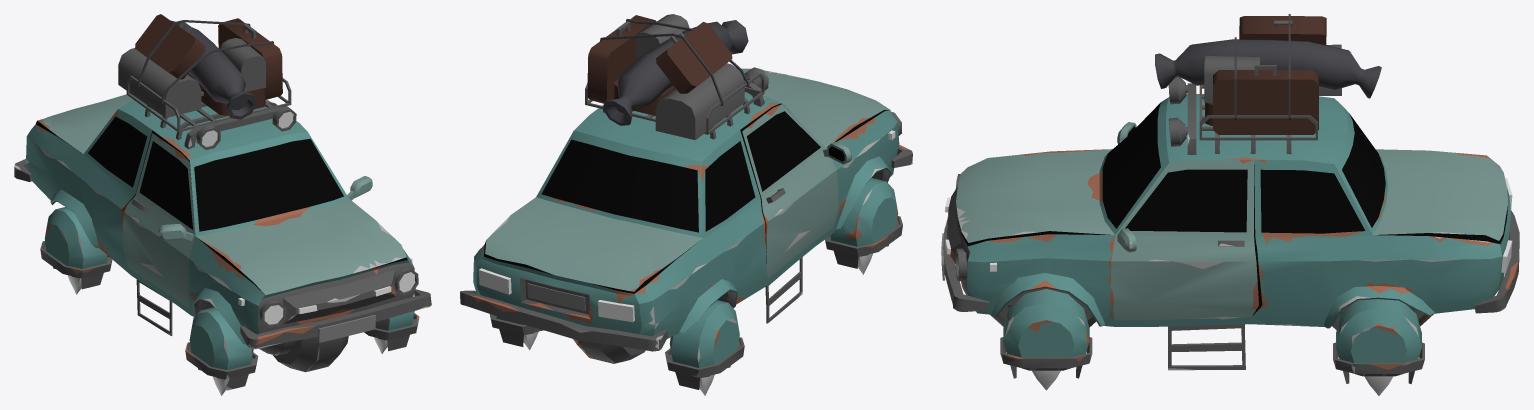
File: Car Final.fbx
The picture shows the model from 3 angles, left to right: view 1: azimuth 30°, elevation 25°; view 2: azimuth 150°, elevation 25°; view 3: azimuth 270°, elevation 25°; orthographic projection. The views are drawn at different scales.
Visible parts, largest first — view 1: car; view 2: car; view 3: car.
Part boxes in pixels (x1,y1,x2,y2): car: (14,14,431,395); car: (460,14,912,395); car: (941,14,1519,395).
Size of the model in its own units: 124 by 159 by 255.
